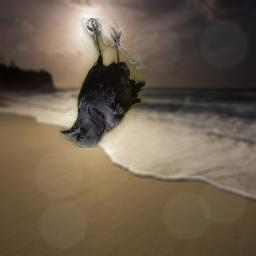Crow: (59, 18, 145, 148)
